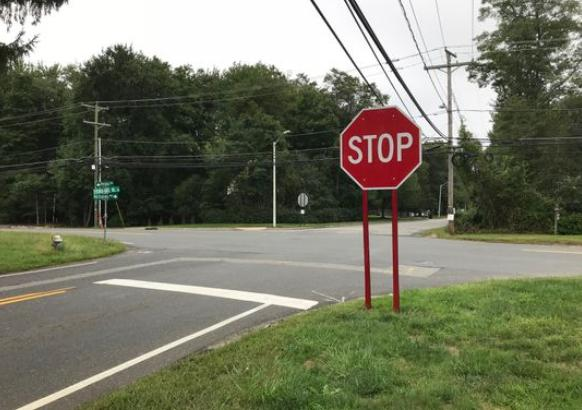Pole: (361, 193, 373, 309), (390, 191, 400, 311), (104, 200, 107, 243)
Sign: (340, 107, 424, 189)
